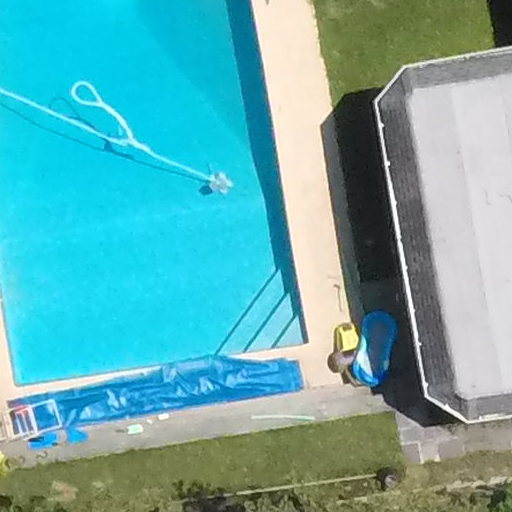container: (331, 323, 362, 355)
pool: (1, 5, 308, 390)
tarp: (8, 349, 312, 442)
toy: (352, 305, 401, 387)
